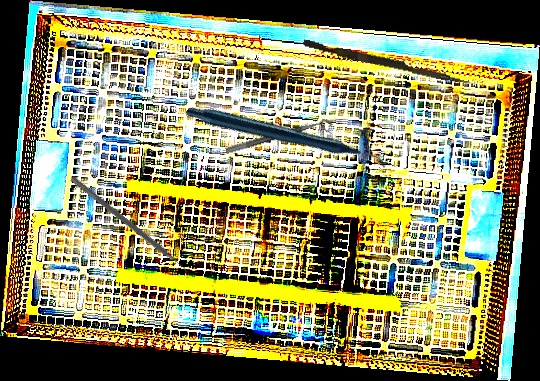Fixation Ring: (224, 117, 336, 163)
Handpiece: (184, 35, 387, 244)
Pusher: (301, 39, 473, 86)
Spatula Surgical: (66, 175, 193, 279)
